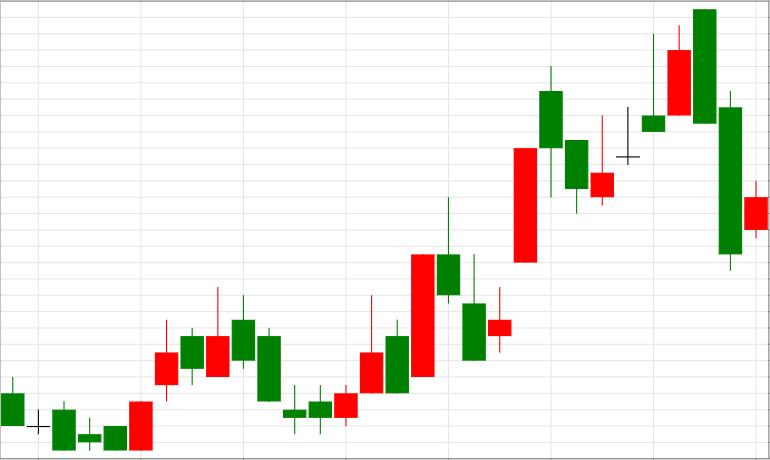bearish_engulfing_fall: (591, 8, 716, 205)
shooting_star_fall: (284, 197, 460, 434)
